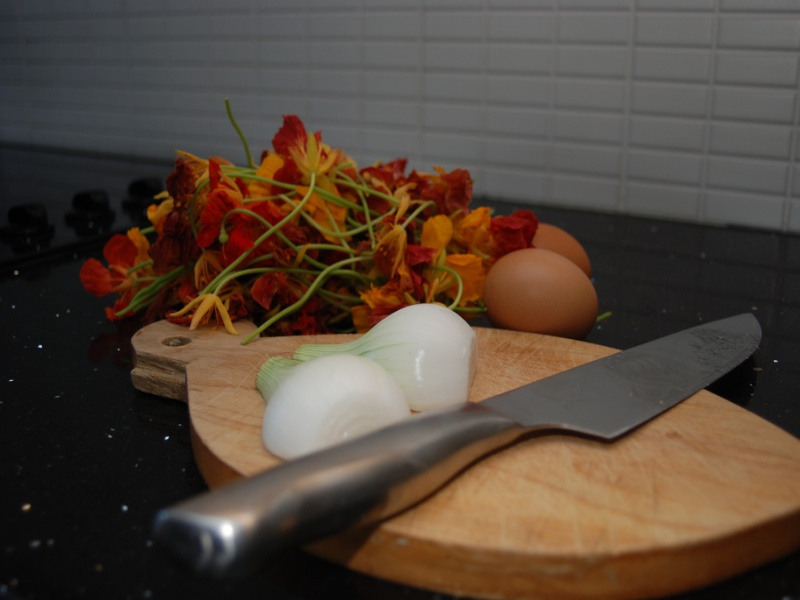knife: (152, 310, 763, 583)
